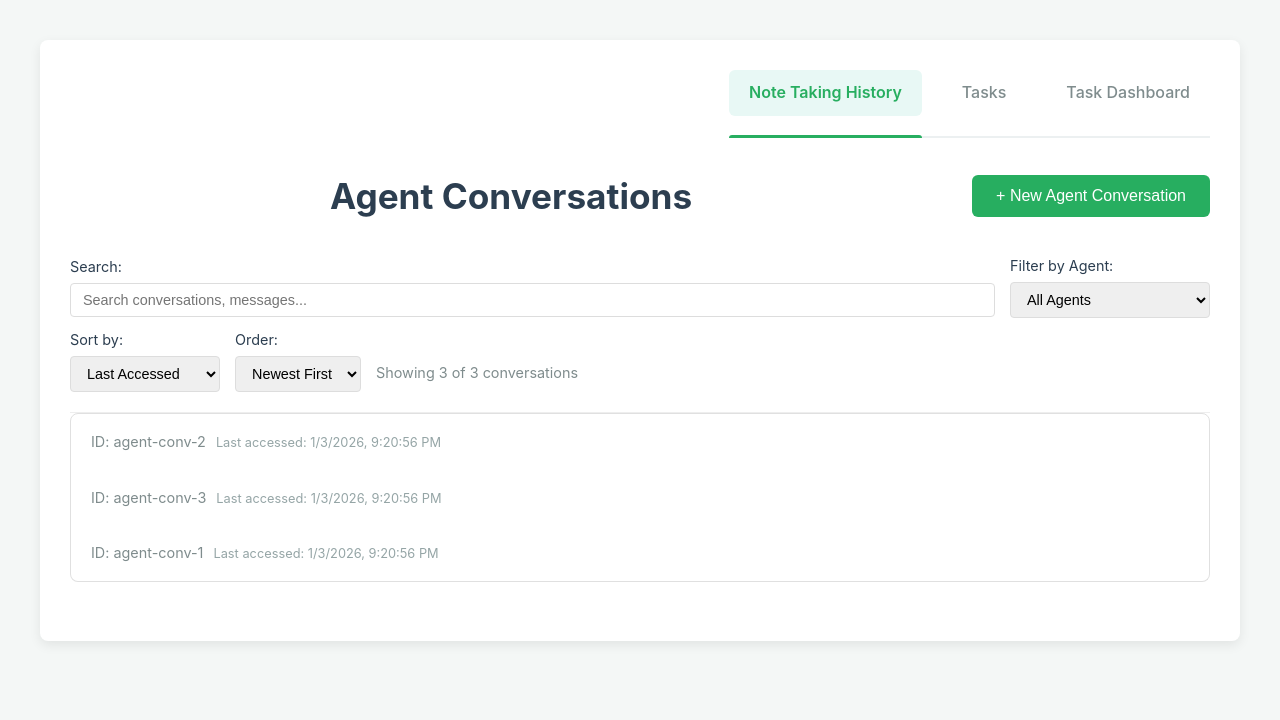
Test case: AgentConversationListView › Filtering › Search input filtering › filters conversations by conversation ID
This screenshot has width=1280, height=720.
Expected: the text "ID: agent-conv-1" is shown, [91,544,203,561]
Type conversation ID in search
Type "agent-conv-2" into the field labelled "Search:" at [532, 300], box [70,283,995,317]
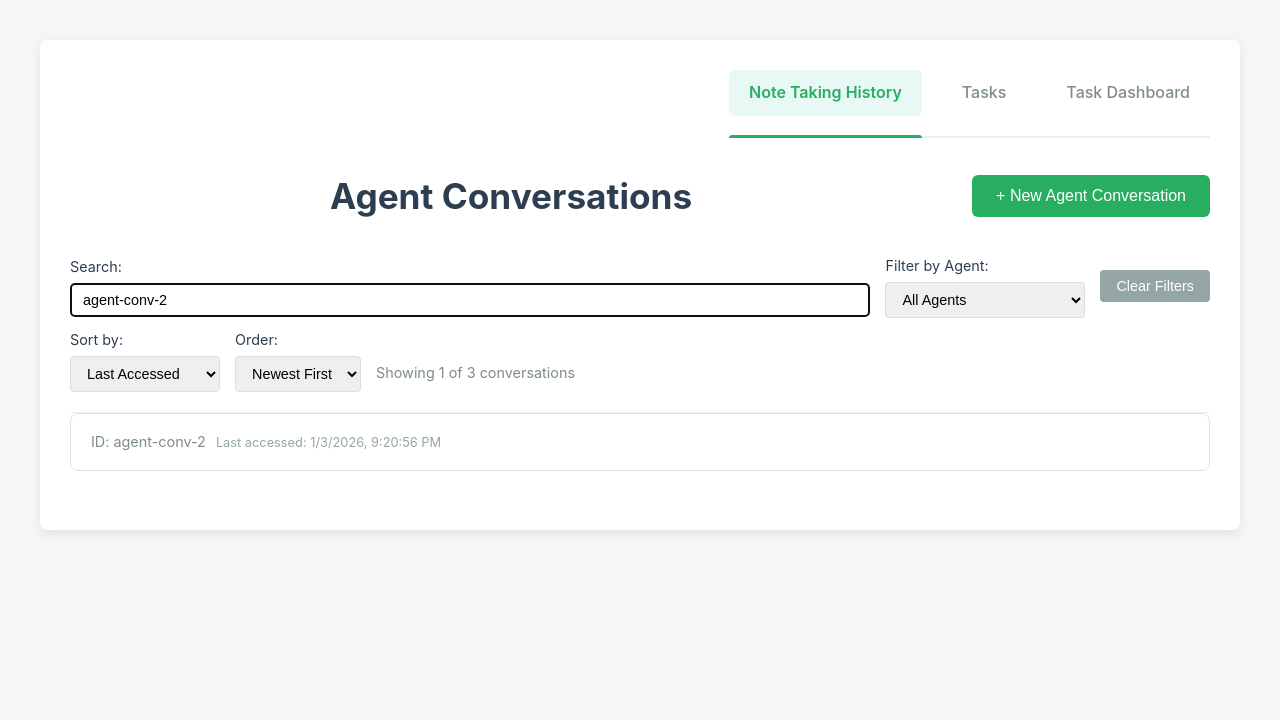
Expected: the text "ID: agent-conv-2" is shown, [91,433,206,450]
Now the link "ID: agent-conv-1" is gone
Now the link "ID: agent-conv-3" is gone
